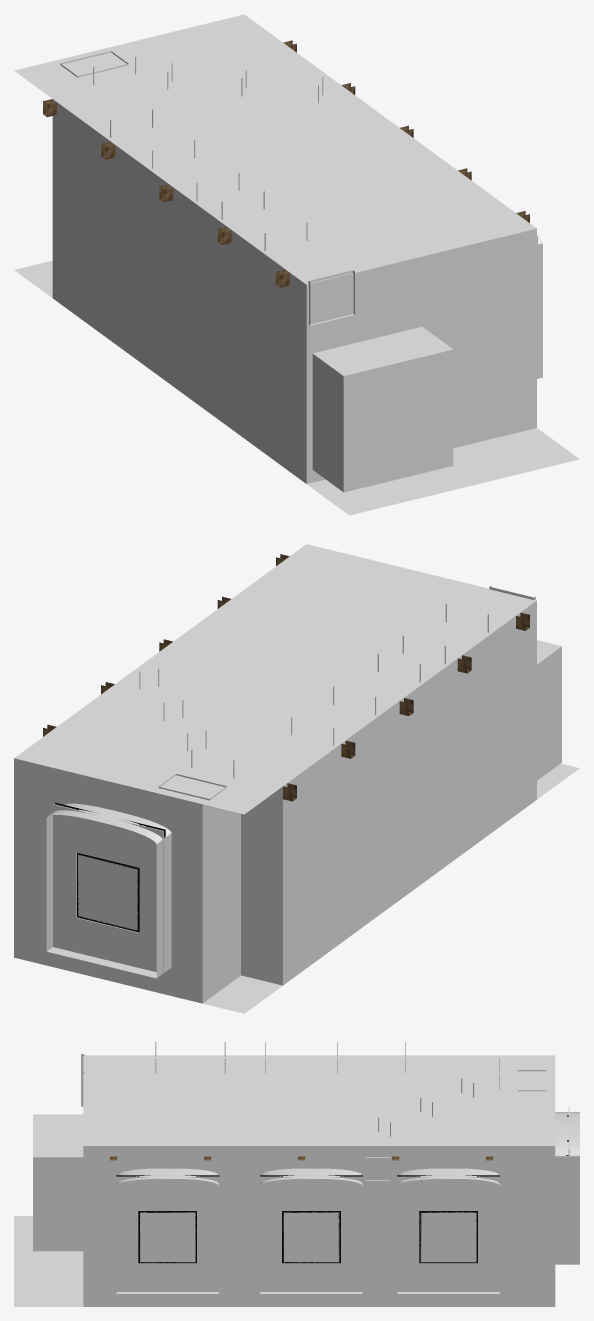
Rendered from laboratory_v2.fbx.
3 views of the same model, one above another, from view 1: azimuth 30°, elevation 25°; view 2: azimuth 150°, elevation 25°; view 3: azimuth 270°, elevation 25° (orthographic). The views are drawn at different scales.
Parts seen in each view (by area): view 1: ceiling, walls, wall_door, floor, wood_beams, struts.002; view 2: walls, ceiling, window-frame, window, wall_door, floor, wood_beams, struts.002; view 3: walls, ceiling, window-frame.004, window-frame.002, window-frame.003, wall_door, floor, window.004, window.003, window.002, struts.002.
Boxes of the visible parts, x1=… form: ceiling: x1=14, y1=14, x2=536, y2=284; walls: x1=52, y1=99, x2=542, y2=483; wall_door: x1=306, y1=228, x2=536, y2=492; floor: x1=14, y1=260, x2=579, y2=515; wood_beams: x1=43, y1=40, x2=529, y2=287; struts.002: x1=60, y1=51, x2=354, y2=325; walls: x1=14, y1=600, x2=536, y2=1003; ceiling: x1=14, y1=544, x2=536, y2=814; window-frame: x1=52, y1=802, x2=165, y2=973; window: x1=77, y1=853, x2=139, y2=931; wall_door: x1=537, y1=640, x2=561, y2=780; floor: x1=203, y1=763, x2=579, y2=1013; wood_beams: x1=43, y1=554, x2=529, y2=801; struts.002: x1=139, y1=585, x2=535, y2=800; walls: x1=83, y1=1112, x2=579, y2=1306; ceiling: x1=83, y1=1055, x2=555, y2=1145; window-frame.004: x1=116, y1=1175, x2=219, y2=1291; window-frame.002: x1=397, y1=1175, x2=499, y2=1291; window-frame.003: x1=260, y1=1175, x2=362, y2=1291; wall_door: x1=33, y1=1114, x2=83, y2=1251; floor: x1=14, y1=1216, x2=83, y2=1306; window.004: x1=139, y1=1211, x2=196, y2=1262; window.003: x1=283, y1=1211, x2=339, y2=1262; window.002: x1=420, y1=1211, x2=476, y2=1262; struts.002: x1=81, y1=1042, x2=546, y2=1180.
Bounding box in the file's own units: 648 × 504 × 1476.
